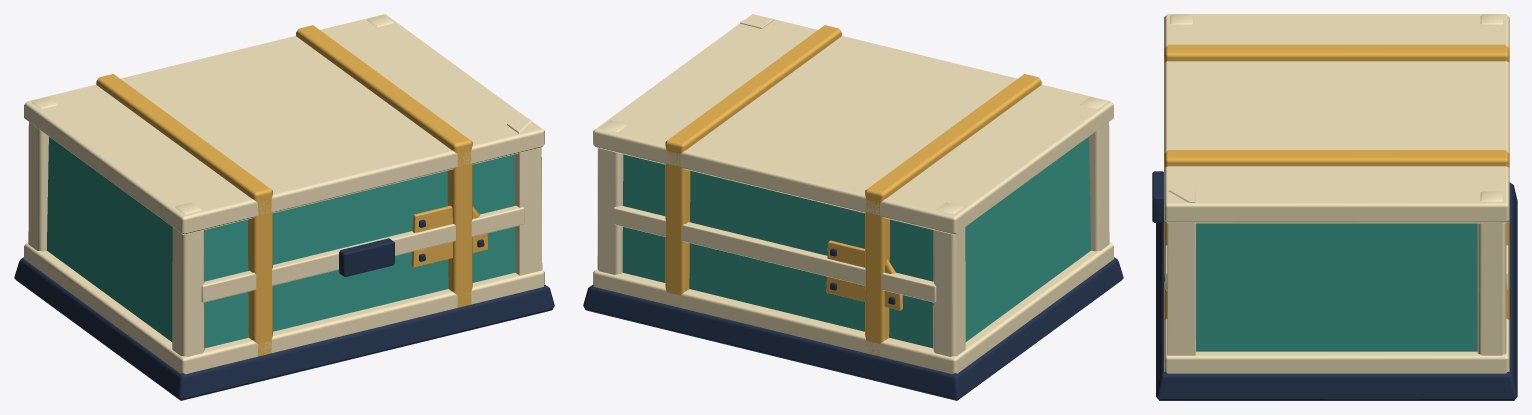
The model's file is crates_teal.glb.
The picture shows the model from 3 angles, left to right: view 1: azimuth 30°, elevation 25°; view 2: azimuth 150°, elevation 25°; view 3: azimuth 270°, elevation 25°; orthographic projection. The views are drawn at different scales.
Parts seen in each view (by area): view 1: crates_teal; view 2: crates_teal; view 3: crates_teal.
Boxes of the visible parts, x1,y1,x2,y2 form: crates_teal: (14,14,554,400); crates_teal: (583,14,1123,400); crates_teal: (1152,14,1517,400).
Bounding box in the file's own units: 2.91 × 1.38 × 2.26.
